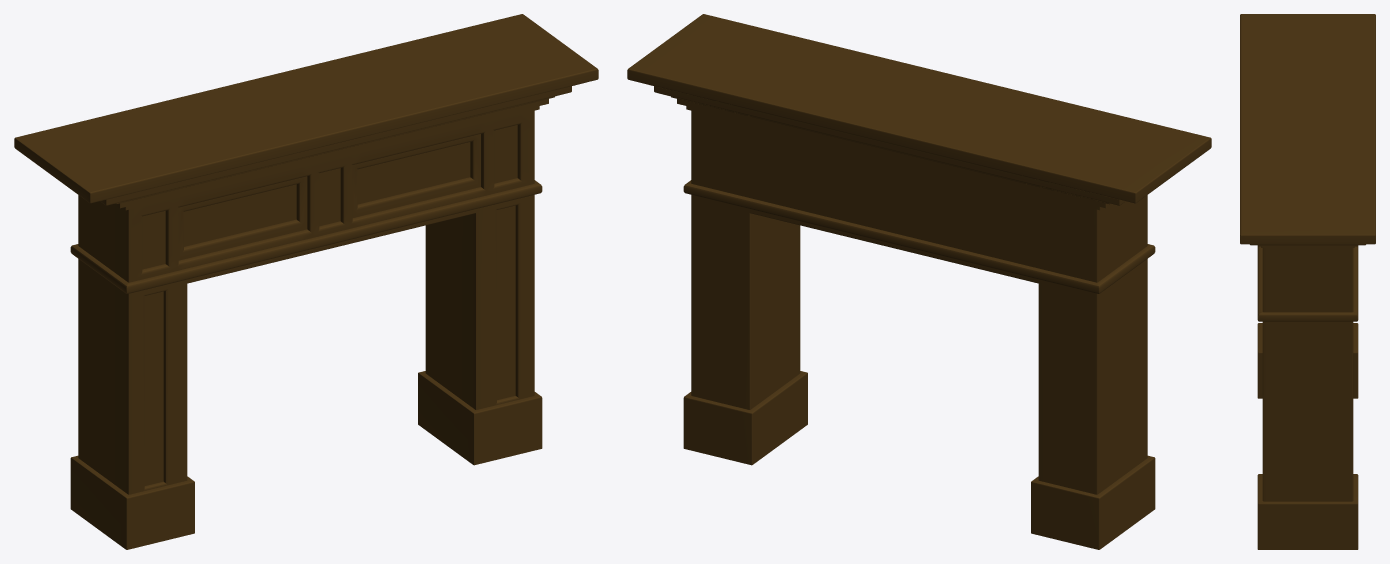
Rendered from Fireplace.fbx.
3 renders of one model, left to right at view 1: azimuth 30°, elevation 25°; view 2: azimuth 150°, elevation 25°; view 3: azimuth 270°, elevation 25°, orthographic. The views are drawn at different scales.
Visible parts, largest first — view 1: Fireplace; view 2: Fireplace; view 3: Fireplace.
Part boxes in pixels (x1,y1,x2,y2): Fireplace: (14, 14, 598, 549); Fireplace: (627, 14, 1211, 549); Fireplace: (1240, 14, 1375, 549).
Size of the model in its own units: 209 by 148 by 54.19.
